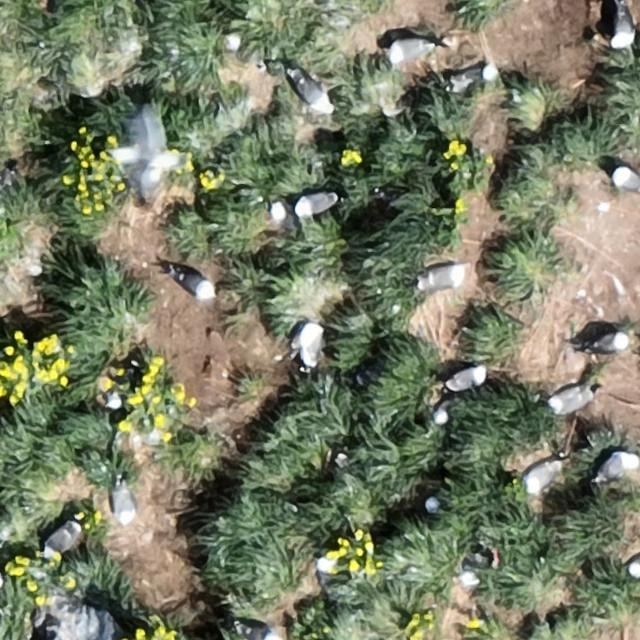F: (110, 114, 178, 192)
umineko: (294, 77, 332, 111), (174, 270, 215, 298), (45, 524, 78, 556), (419, 264, 463, 287), (525, 462, 558, 492), (551, 389, 592, 413), (388, 40, 431, 62), (452, 64, 494, 86), (113, 484, 136, 524), (297, 323, 320, 362), (613, 7, 634, 49), (296, 193, 334, 216), (448, 366, 487, 388), (600, 455, 632, 481), (591, 332, 629, 352), (612, 167, 640, 193), (239, 623, 279, 639), (420, 499, 451, 516), (270, 204, 291, 229), (434, 402, 452, 425), (626, 553, 640, 577)
